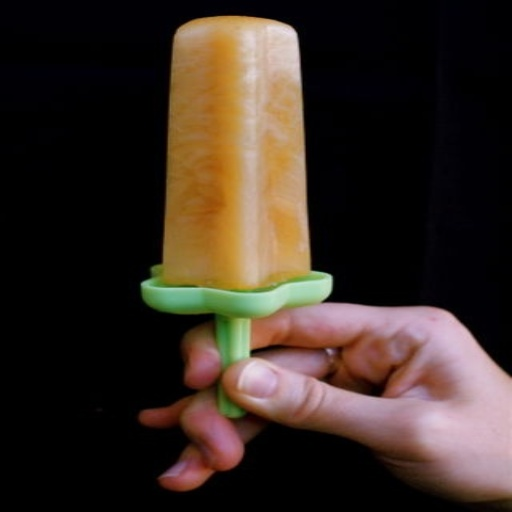hand: (171, 307, 507, 496)
